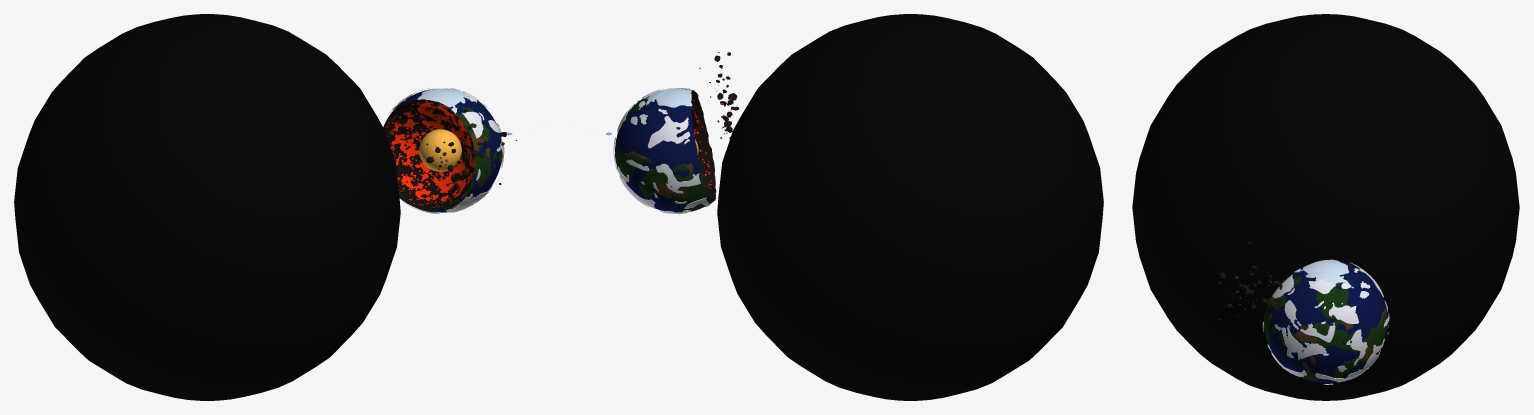
Rendered from IntroAssets.obj.
3 renders of one model, left to right at view 1: azimuth 30°, elevation 25°; view 2: azimuth 150°, elevation 25°; view 3: azimuth 270°, elevation 25°, orthographic.
Parts seen in each view (by area): view 1: SpaceDome__Void, ShatteredPlanet__Crust, ShatteredPlanet__Magma, ShatteredPlanet__Ocean_1, ShatteredPlanet__PlanetCore, ShatteredPlanet__Cloud_1, ShatteredPlanet__Land, ShatteredPlanet__Ice, ShatteredPlanet__Debris; view 2: SpaceDome__Void, ShatteredPlanet__Ocean_1, ShatteredPlanet__Cloud_2, ShatteredPlanet__Land, ShatteredPlanet__Ocean_2, ShatteredPlanet__Crust, ShatteredPlanet__Ice, ShatteredPlanet__Debris; view 3: SpaceDome__Void, ShatteredPlanet__Ocean_1, ShatteredPlanet__Land, ShatteredPlanet__Cloud_1, ShatteredPlanet__Cloud_2, ShatteredPlanet__Ice, ShatteredPlanet__LandDry, ShatteredPlanet__Debris, ShatteredPlanet__Ocean_2.
Boxes of the visible parts, x1,y1,x2,y2 form: SpaceDome__Void: (14, 14, 400, 400); ShatteredPlanet__Crust: (383, 99, 474, 210); ShatteredPlanet__Magma: (386, 100, 502, 207); ShatteredPlanet__Ocean_1: (387, 88, 501, 212); ShatteredPlanet__PlanetCore: (419, 129, 461, 171); ShatteredPlanet__Cloud_1: (399, 88, 504, 213); ShatteredPlanet__Land: (407, 92, 501, 212); ShatteredPlanet__Ice: (417, 88, 469, 212); ShatteredPlanet__Debris: (417, 108, 516, 184); SpaceDome__Void: (717, 14, 1103, 400); ShatteredPlanet__Ocean_1: (615, 88, 705, 212); ShatteredPlanet__Cloud_2: (613, 103, 707, 214); ShatteredPlanet__Land: (615, 95, 714, 212); ShatteredPlanet__Ocean_2: (620, 130, 688, 204); ShatteredPlanet__Crust: (691, 90, 716, 200); ShatteredPlanet__Ice: (646, 88, 692, 212); ShatteredPlanet__Debris: (699, 52, 739, 138); SpaceDome__Void: (1132, 14, 1519, 400); ShatteredPlanet__Ocean_1: (1266, 260, 1373, 383); ShatteredPlanet__Land: (1264, 272, 1388, 380); ShatteredPlanet__Cloud_1: (1262, 275, 1346, 384); ShatteredPlanet__Cloud_2: (1345, 262, 1389, 380); ShatteredPlanet__Ice: (1294, 259, 1348, 284); ShatteredPlanet__LandDry: (1267, 289, 1386, 373); ShatteredPlanet__Debris: (1217, 241, 1287, 320); ShatteredPlanet__Ocean_2: (1373, 282, 1387, 354).
Bounding box in the file's own units: 301 × 200 × 200.
